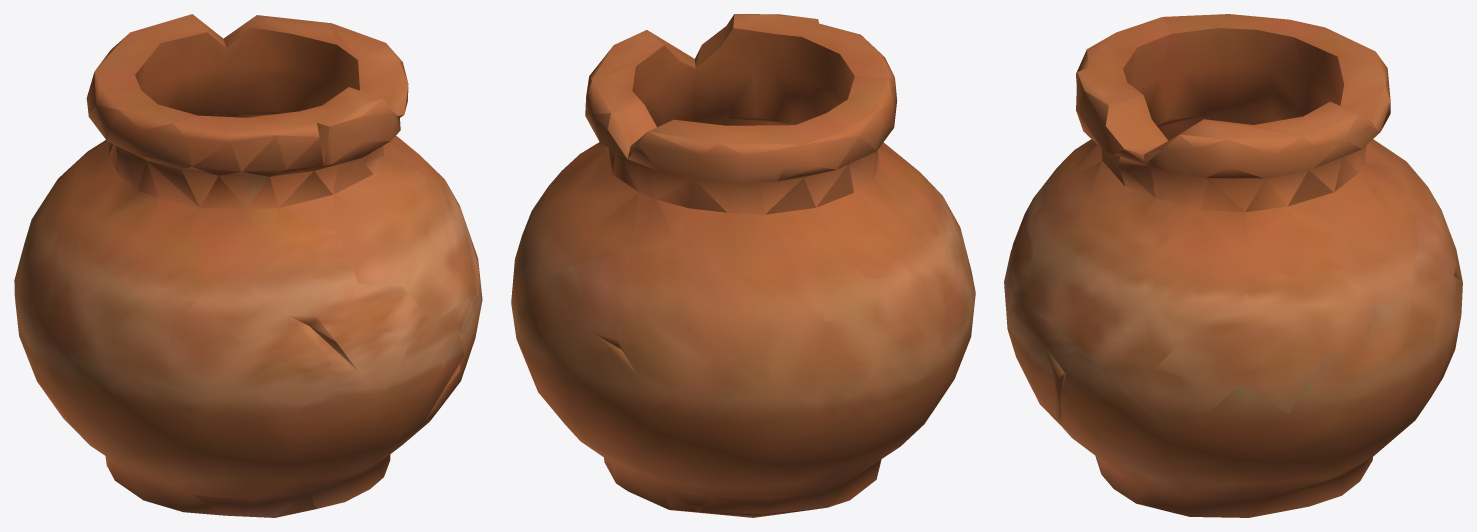
File: jarron.glb
The picture shows the model from 3 angles, left to right: view 1: azimuth 30°, elevation 25°; view 2: azimuth 150°, elevation 25°; view 3: azimuth 270°, elevation 25°; orthographic projection.
Parts seen in each view (by area): view 1: jarron_malla; view 2: jarron_malla; view 3: jarron_malla.
Boxes of the visible parts, x1,y1,x2,y2 form: jarron_malla: [14, 14, 482, 517]; jarron_malla: [511, 14, 975, 517]; jarron_malla: [1004, 14, 1462, 517].
Size of the model in its own units: 0.1755 by 0.1622 by 0.1716.
1 material, 1 textured.
